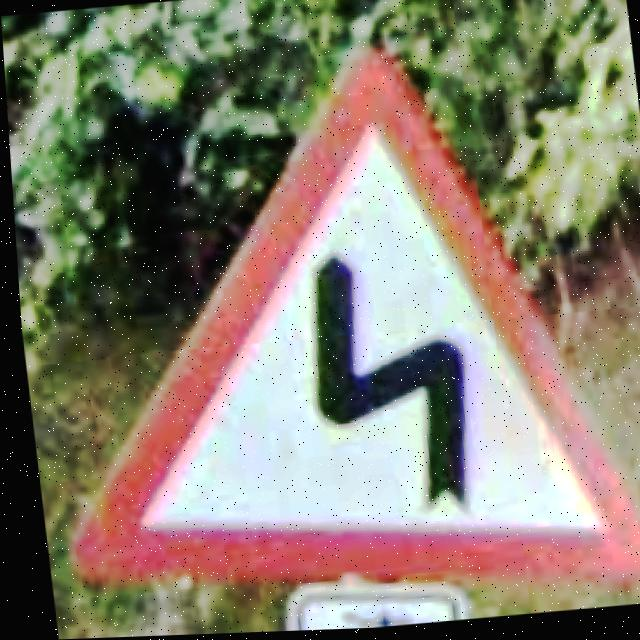doublebendleft: (68, 57, 640, 593)
